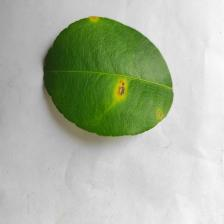canker: (87, 10, 160, 124)
